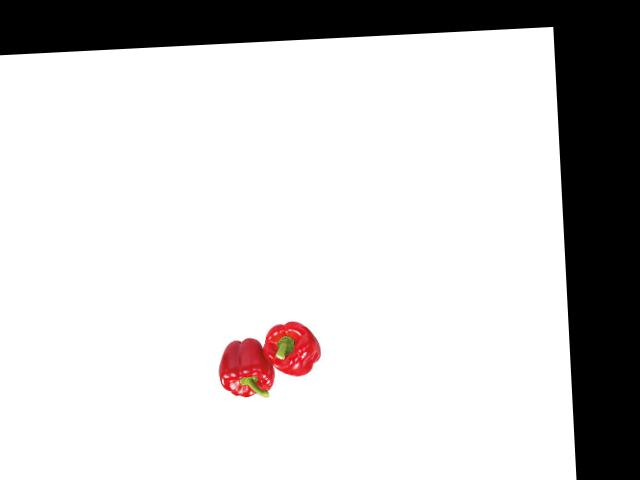bell_pepper: (215, 332, 277, 402)
